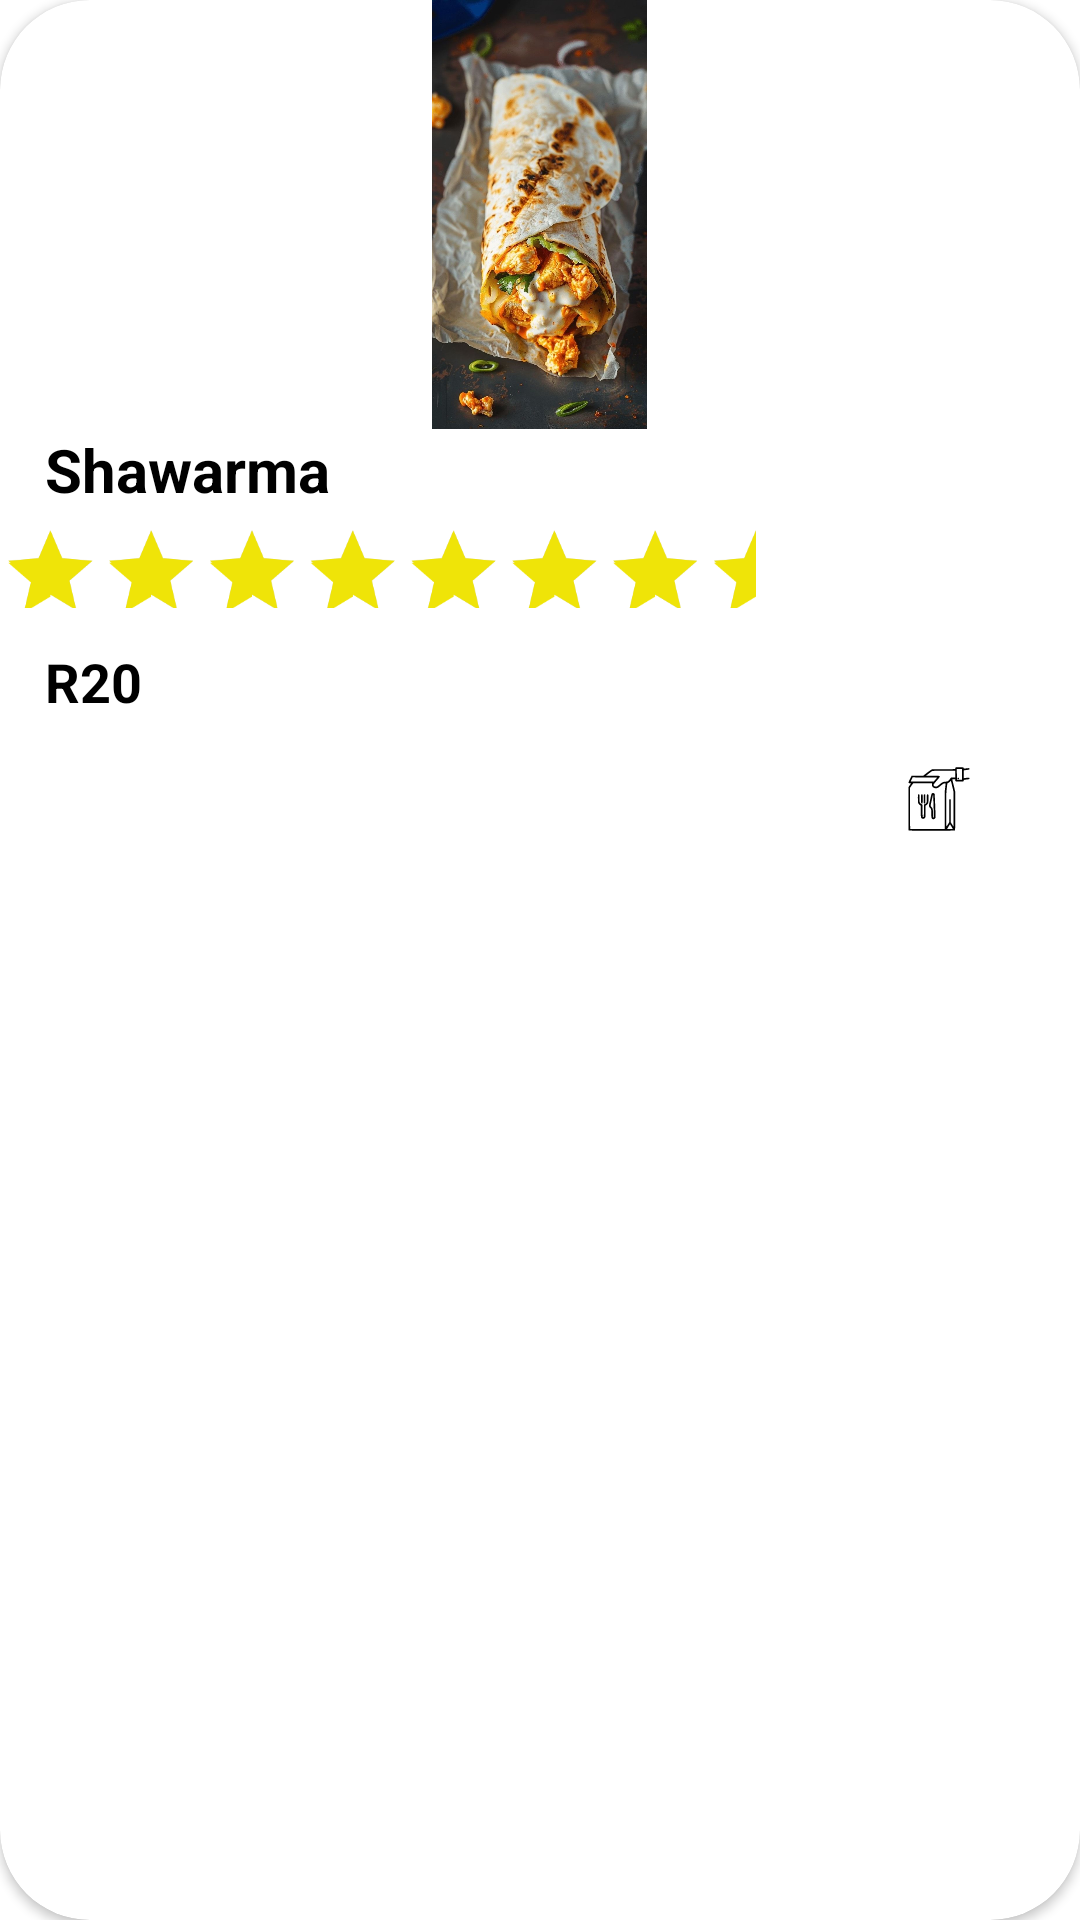

Named icons in this screenshot (1080px×1920px) and their centers, [x,y]:
food home delivery premium: [939,799]
